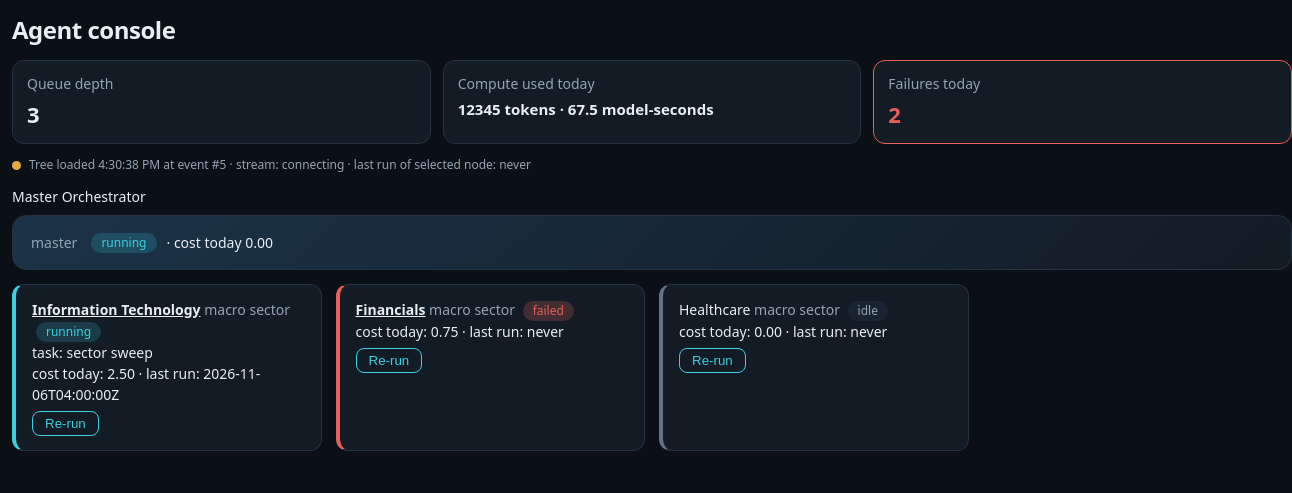
Test: agent console › re-run is disabled while its request is in flight and a second click sends no second POST
Later steps or results of the test are not shown.
Click the button with aria-label "re-run Information Technology".
click(65, 424)  # box [32,411,99,436]
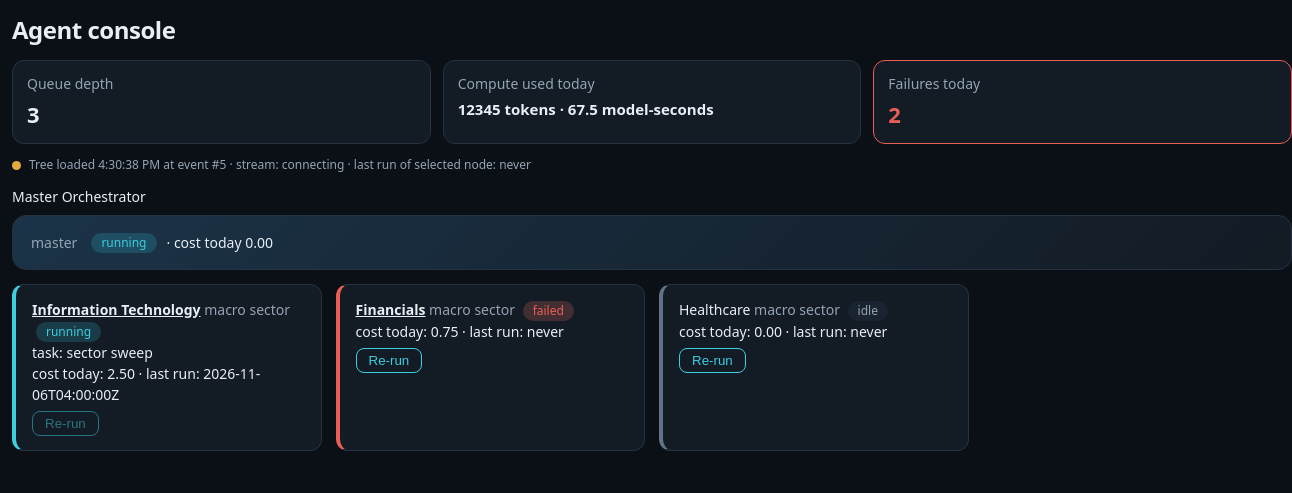
Click the button with aria-label "re-run Information Technology".
click(65, 424)  # box [32,411,99,436]
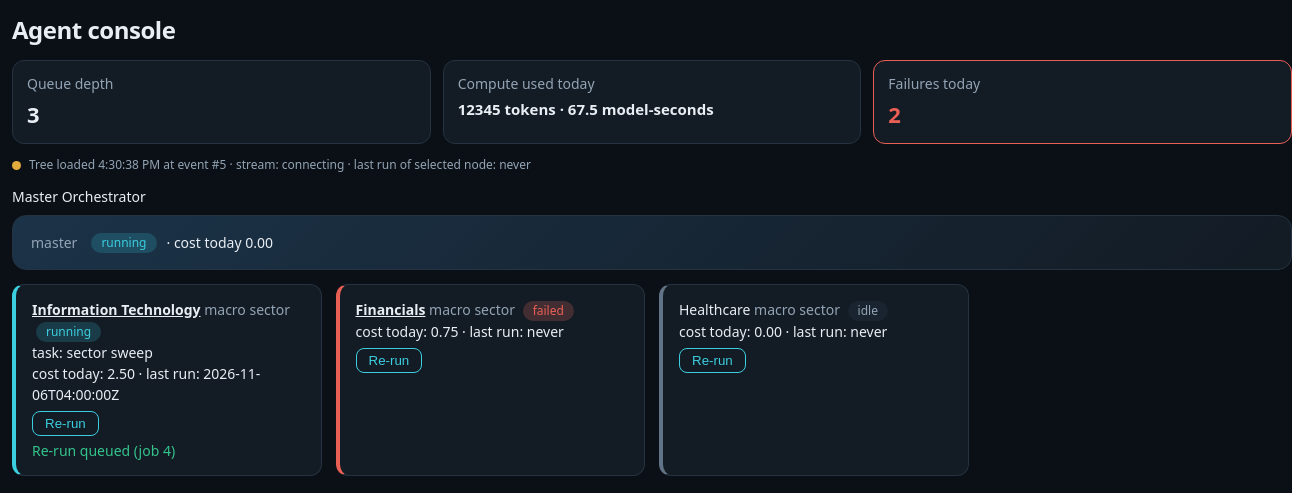
Expected: the message shows "job 4", [32,441,175,460]
Expected: the button with aria-label "re-run Information Technology" is enabled, [32,411,99,436]
